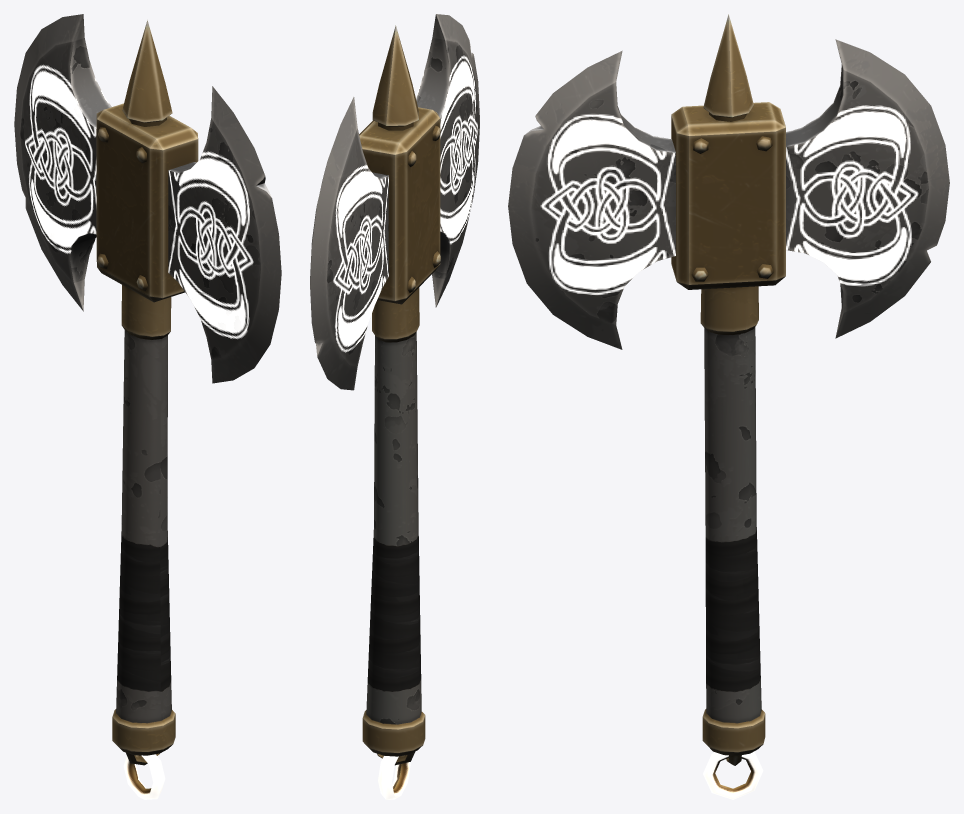
File: Axe1H_Epic.fbx
The picture shows the model from 3 angles, left to right: view 1: azimuth 30°, elevation 25°; view 2: azimuth 150°, elevation 25°; view 3: azimuth 270°, elevation 25°; orthographic projection.
Visible parts, largest first — view 1: Axe1H_Epic; view 2: Axe1H_Epic; view 3: Axe1H_Epic.
Boxes of the visible parts, <box> form: Axe1H_Epic: <box>14,14,281,799</box>; Axe1H_Epic: <box>310,14,479,799</box>; Axe1H_Epic: <box>508,14,949,799</box>.
Bounding box in the file's own units: 43.4 × 473 × 241.
